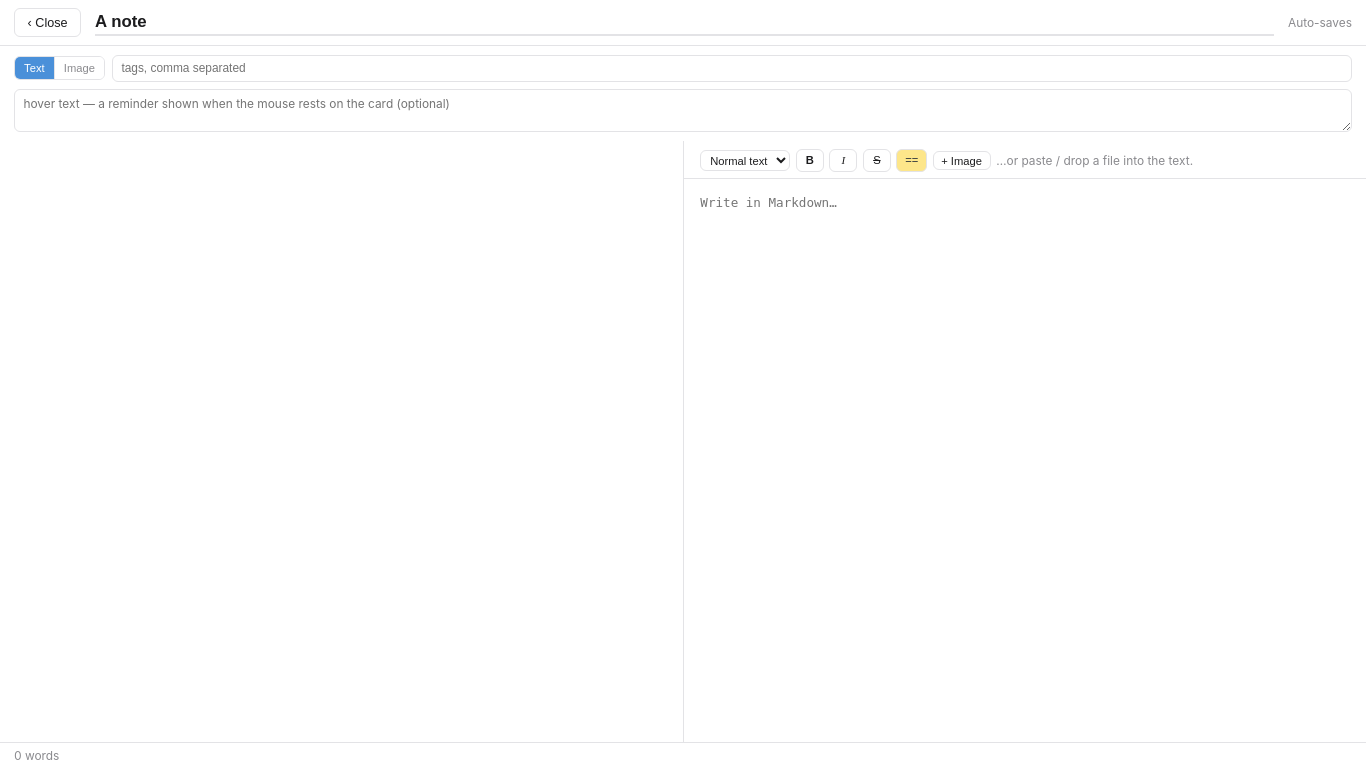
Test: inserting an asset › inserts a plain link for a PDF, not a broken image embed
This screenshot has width=1366, height=768.
Check: the text box with placeholder "Write in Markdown…" is empty, box [684,179,1365,742]
Click the button "+ Image" at (962, 161), box [932,151,991,170]
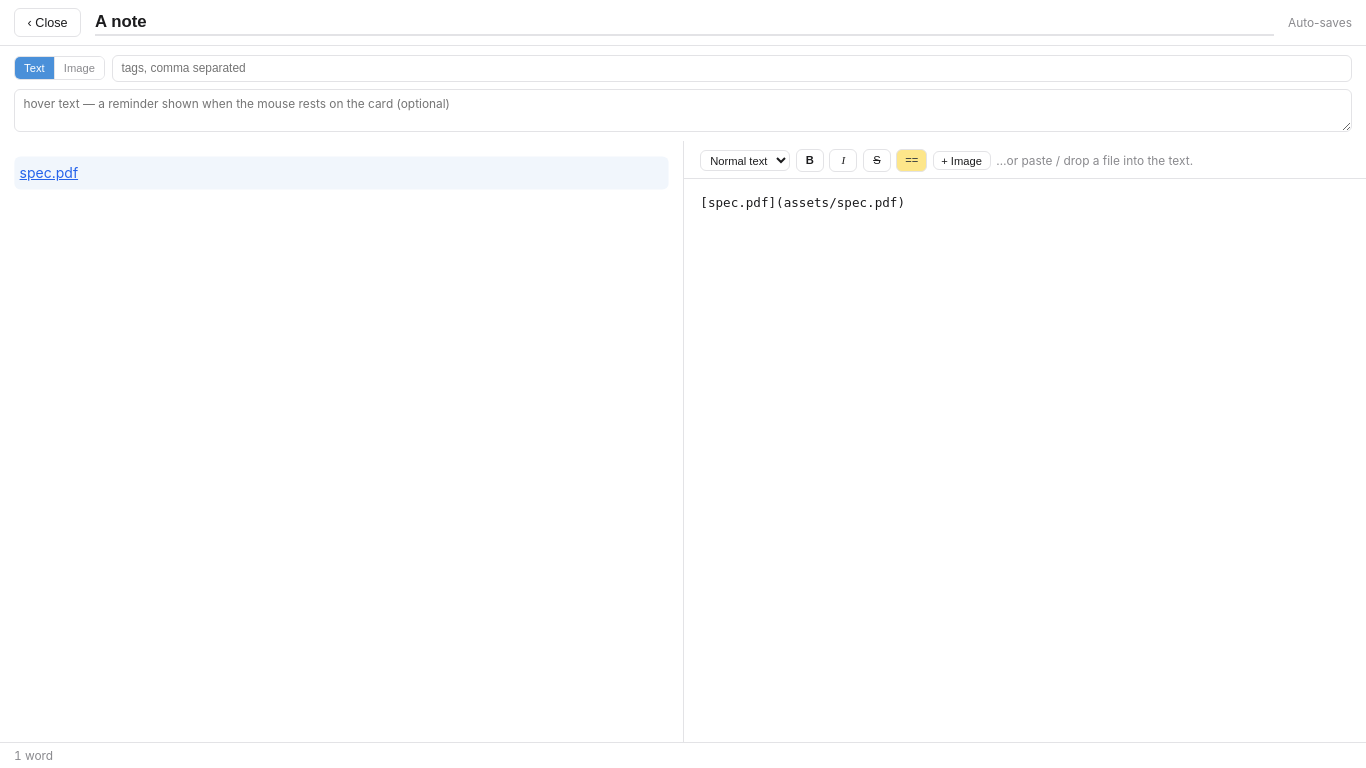
Check: the text box with placeholder "Write in Markdown…" holds "[spec.pdf](assets/spec.pdf)", box [684,179,1365,742]
